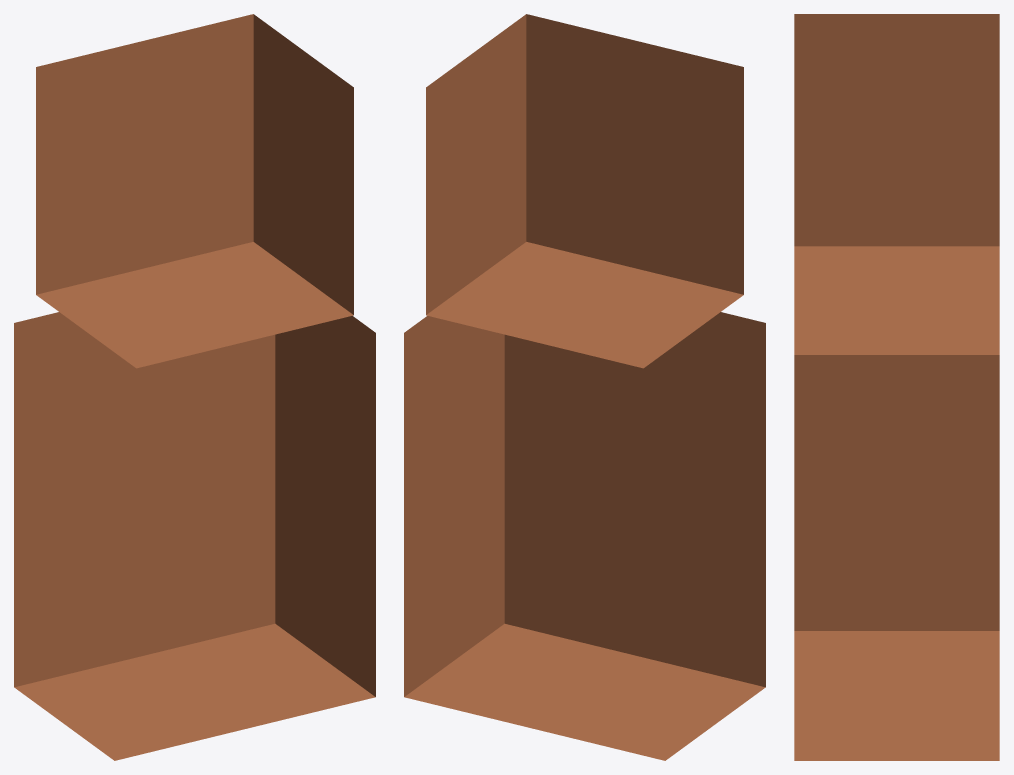
Rendered from reasoning.glb.
The picture shows the model from 3 angles, left to right: view 1: azimuth 30°, elevation 25°; view 2: azimuth 150°, elevation 25°; view 3: azimuth 270°, elevation 25°; orthographic projection. The views are drawn at different scales.
Visible parts, largest first — view 1: ReasoningCharacter; view 2: ReasoningCharacter; view 3: ReasoningCharacter.
Boxes of the visible parts, <box> form: ReasoningCharacter: <box>14,14,375,760</box>; ReasoningCharacter: <box>404,14,765,760</box>; ReasoningCharacter: <box>794,14,999,760</box>.
Size of the model in its own units: 0.6 by 1.35 by 0.4.
